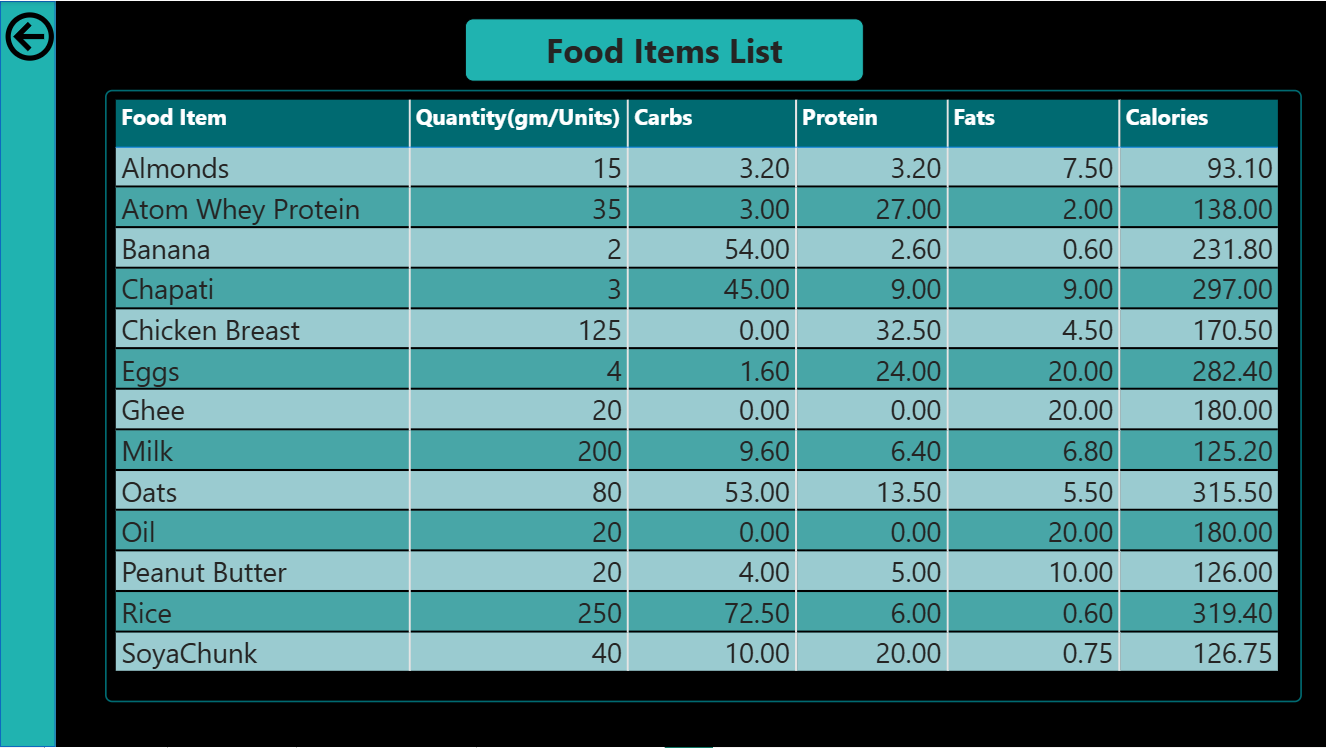

The dashboard page shown, as its layout file describes it:
{"tool":"powerbi","page":{"name":"Food_Items","canvas":[1280,720],"ordinal":1},"visuals":[{"type":"tableEx","fields":{"Values":["Food_Log.Food_Item","Min(Food_Log.Quantity)","Min(Food_Log.Carbs)","Min(Food_Log.Protein)","Min(Food_Log.Fats)","Min(Food_Log.Calories)"]},"box":[100.9,85.7,1155.1,591.4],"z":0},{"type":"textbox","box":[415.7,16.3,384.7,60.7],"z":1000},{"type":"shape","box":[0,0,53.8,720.2],"z":2001},{"type":"actionButton","box":[0,8.2,57.4,68.9],"z":2501}]}

Visuals, with their boxes in screenshot pixels (x1, y1, x2, y2), scaled from the page's 1280x720 canvas onto the 1326x748 screenshot:
tableEx - Food_Log.Food_Item x Min(Food_Log.Quantity): region(105, 89, 1301, 703)
textbox: region(431, 17, 829, 80)
shape: region(0, 0, 56, 747)
actionButton: region(0, 9, 59, 80)
